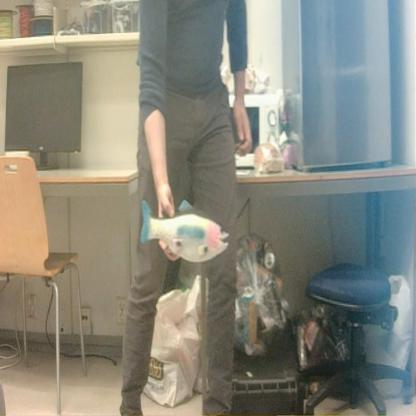rubberfish: (136, 193, 231, 270)
